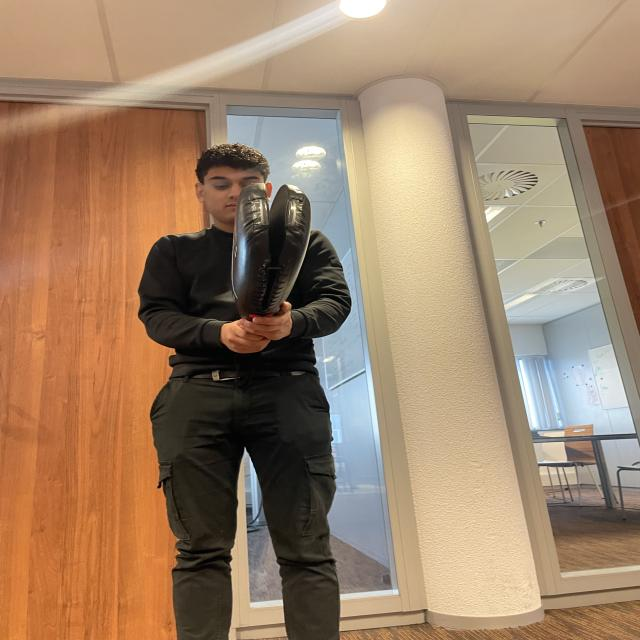paddle: (236, 183, 304, 318)
